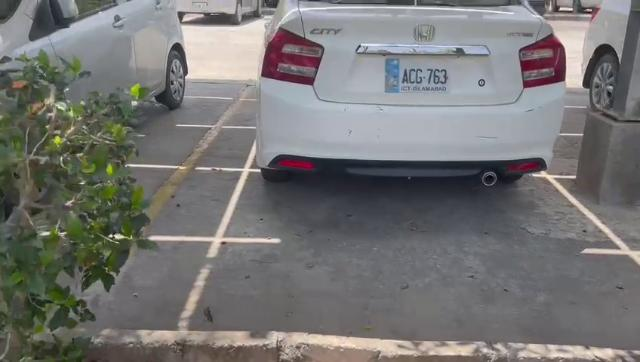plate: (382, 57, 453, 94)
